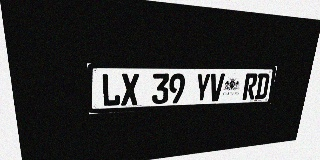3: (152, 73, 169, 104)
9: (168, 73, 186, 103)
D: (254, 73, 270, 99)
L: (101, 73, 120, 107)
R: (242, 73, 258, 100)
V: (208, 73, 225, 102)
X: (121, 73, 139, 106)
Y: (194, 73, 211, 102)
